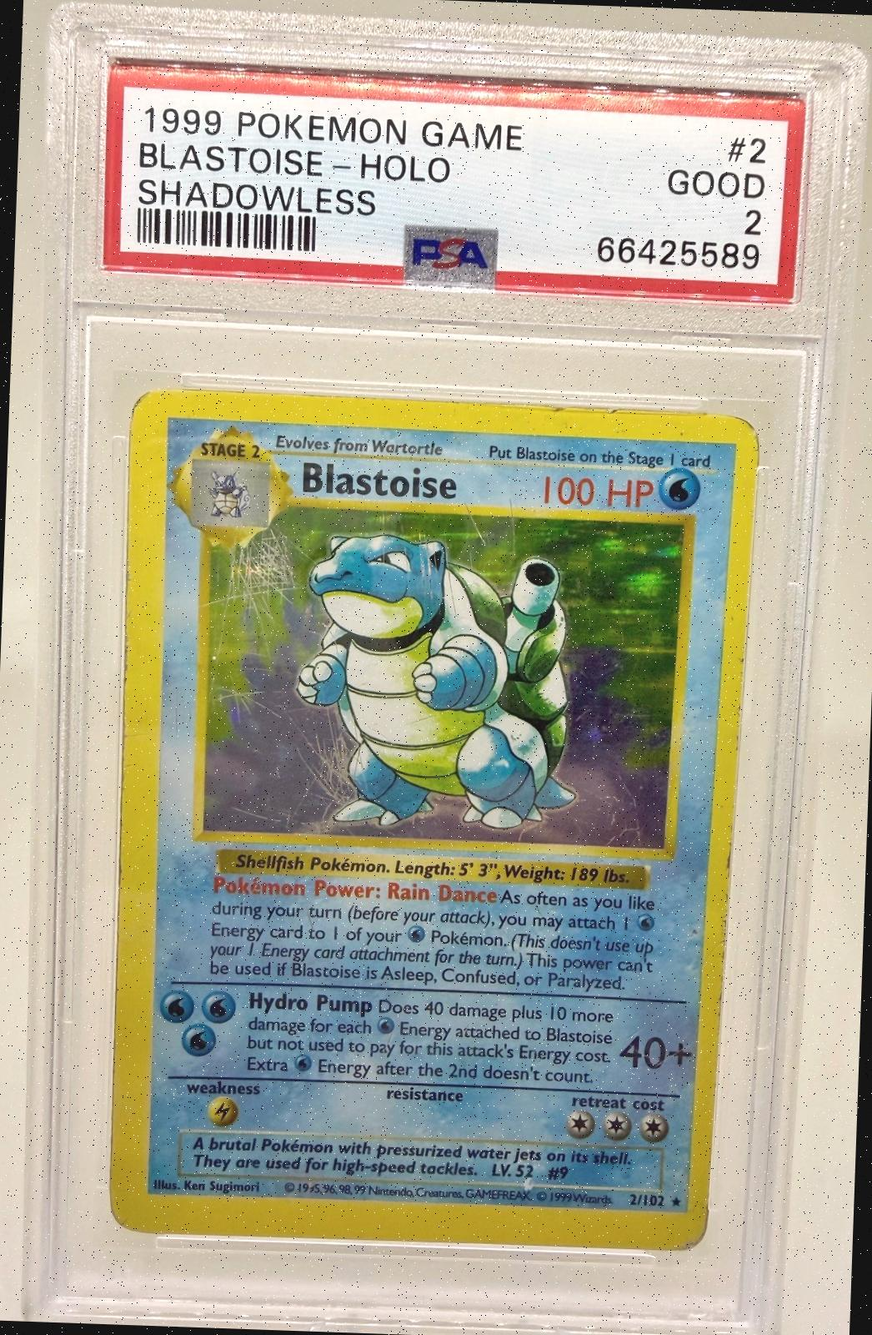card-2UtV: (108, 387, 760, 1251)
